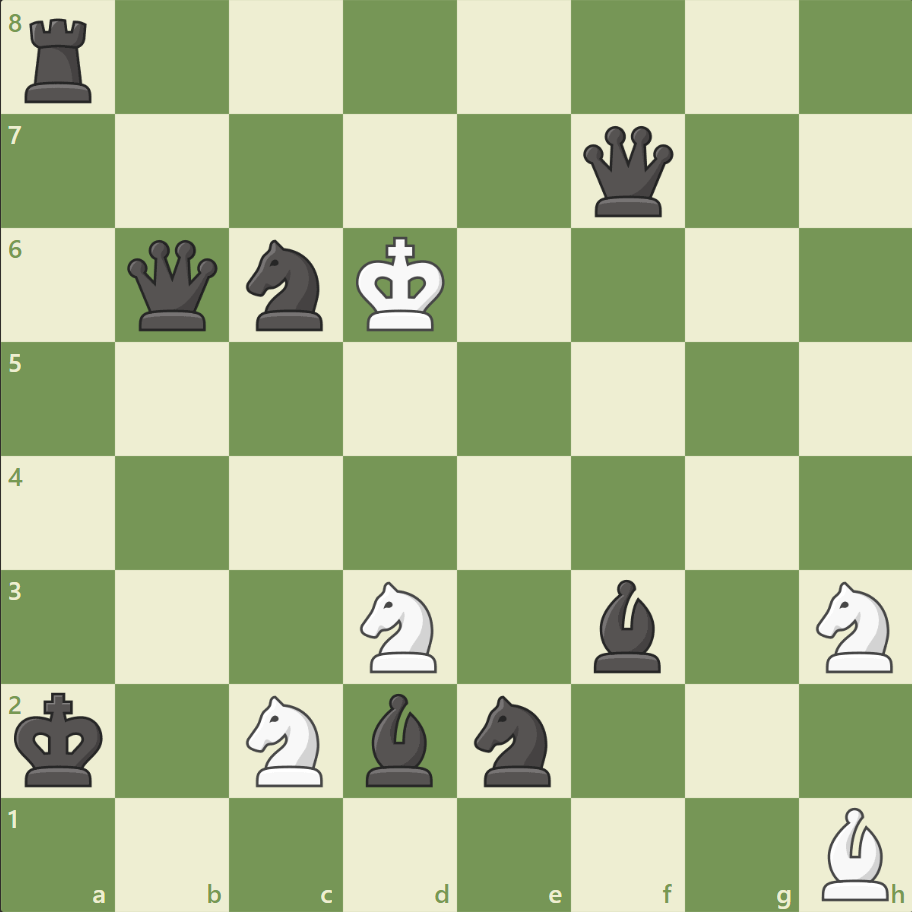B: (812, 801, 896, 904)
K: (351, 231, 451, 339)
N: (351, 575, 449, 677), (238, 688, 335, 791), (806, 575, 903, 677)
b: (358, 687, 442, 790), (585, 574, 669, 676)
k: (11, 685, 111, 793)
n: (238, 234, 335, 337), (465, 688, 562, 791)
q: (578, 122, 677, 222), (124, 236, 223, 335)
r: (19, 12, 102, 109)
